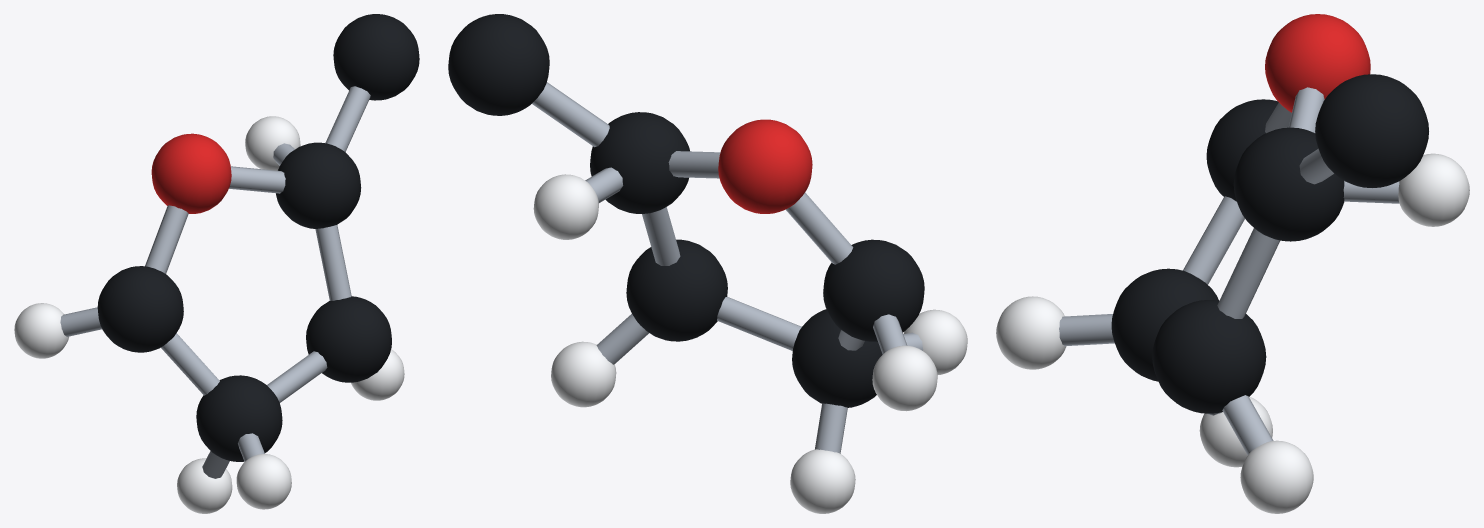
File: deoksiriboze.glb
3 renders of one model, left to right at view 1: azimuth 30°, elevation 25°; view 2: azimuth 150°, elevation 25°; view 3: azimuth 270°, elevation 25°, orthographic. The views are drawn at different scales.
Parts seen in each view (by area): view 1: Deoksiriboze; view 2: Deoksiriboze; view 3: Deoksiriboze.
Part boxes in pixels (left/top/right/bottom): Deoksiriboze: left=14, top=14, right=419, bottom=513; Deoksiriboze: left=448, top=14, right=967, bottom=513; Deoksiriboze: left=996, top=14, right=1469, bottom=513.
Bounding box in the file's own units: 1.57 × 1.5 × 1.22.
